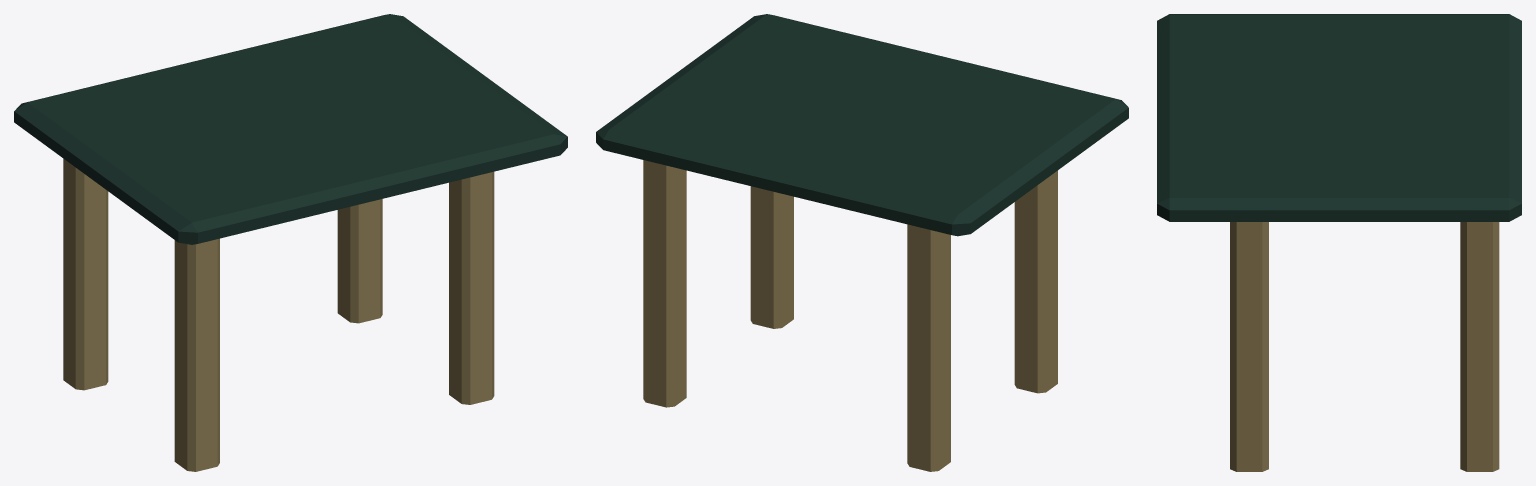
Rendered from Table (1).fbx.
The picture shows the model from 3 angles, left to right: view 1: azimuth 30°, elevation 25°; view 2: azimuth 150°, elevation 25°; view 3: azimuth 270°, elevation 25°; orthographic projection. The views are drawn at different scales.
Parts seen in each view (by area): view 1: Plane.004, Plane.001, Plane.003, Plane.002, Plane; view 2: Plane.004, Plane.002, Plane, Plane.001, Plane.003; view 3: Plane.004, Plane, Plane.003.
Boxes of the visible parts, x1=… form: Plane.004: x1=14, y1=14, x2=567, y2=244; Plane.001: x1=174, y1=238, x2=219, y2=471; Plane.003: x1=449, y1=171, x2=494, y2=404; Plane.002: x1=63, y1=158, x2=108, y2=390; Plane: x1=337, y1=199, x2=382, y2=323; Plane.004: x1=596, y1=14, x2=1128, y2=236; Plane.002: x1=907, y1=224, x2=950, y2=471; Plane: x1=643, y1=160, x2=686, y2=407; Plane.001: x1=1014, y1=170, x2=1057, y2=393; Plane.003: x1=750, y1=186, x2=793, y2=328; Plane.004: x1=1157, y1=14, x2=1521, y2=221; Plane: x1=1460, y1=222, x2=1499, y2=471; Plane.003: x1=1230, y1=222, x2=1268, y2=471.
Size of the model in its own units: 553 by 378 by 434.
